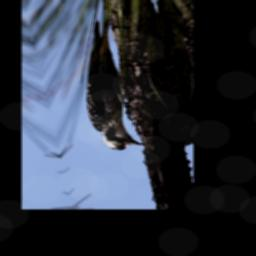Woodpecker: (63, 7, 149, 170)
